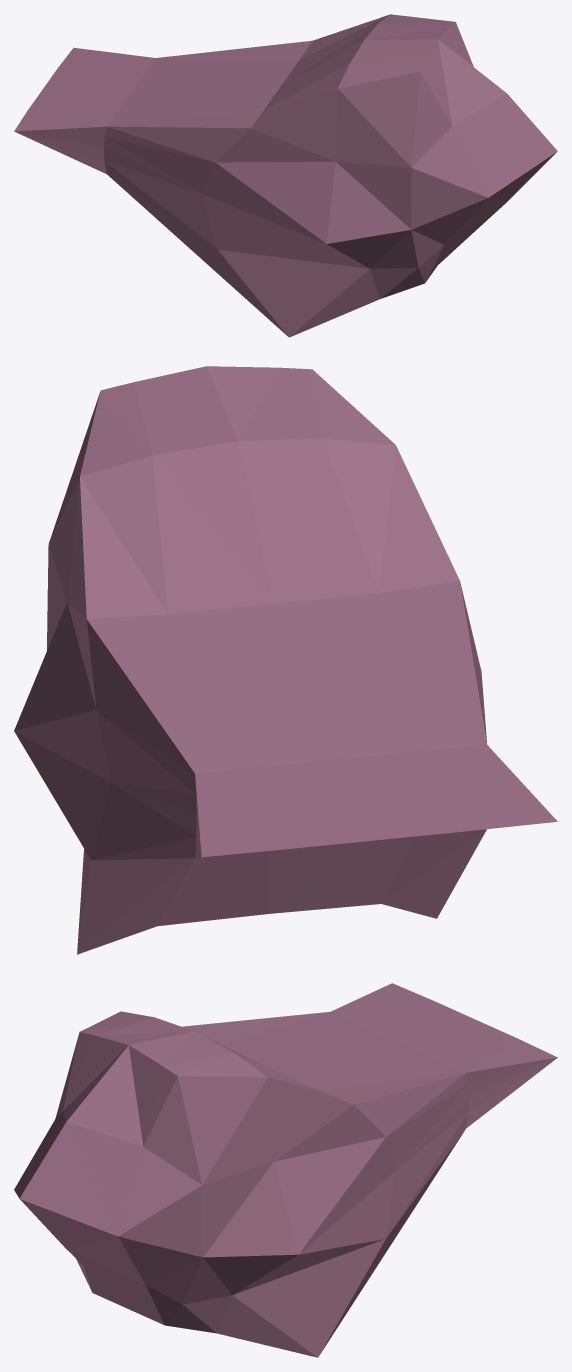
File: bird.dae
3 renders of one model, top to bottom at view 1: azimuth 30°, elevation 25°; view 2: azimuth 150°, elevation 25°; view 3: azimuth 270°, elevation 25°, orthographic. The views are drawn at different scales.
Visible parts, largest first — view 1: Cube; view 2: Cube; view 3: Cube.
Boxes of the visible parts, x1,y1,x2,y2 form: Cube: (14, 14, 557, 337); Cube: (14, 366, 557, 954); Cube: (14, 983, 557, 1357).
Bounding box in the file's own units: 0.3774 × 0.3855 × 0.248.
